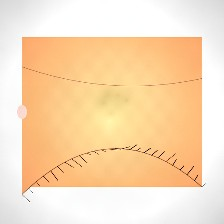pinguecula_lesion: (144, 100, 181, 129)
